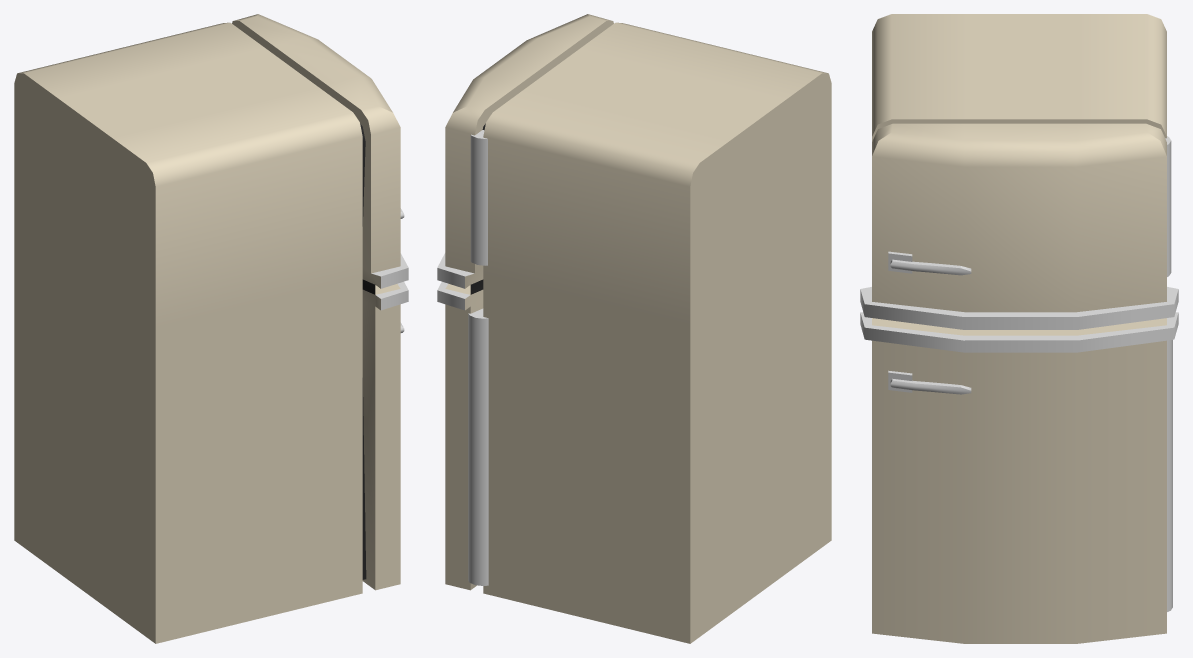
Rendered from fridgeUV.fbx.
The picture shows the model from 3 angles, left to right: view 1: azimuth 30°, elevation 25°; view 2: azimuth 150°, elevation 25°; view 3: azimuth 270°, elevation 25°; orthographic projection. The views are drawn at different scales.
Parts seen in each view (by area): view 1: polySurface4; view 2: polySurface4; view 3: polySurface4.
Boxes of the visible parts, <box> form: polySurface4: <box>14,14,408,643</box>; polySurface4: <box>437,14,831,643</box>; polySurface4: <box>860,14,1178,643</box>.
Bounding box in the file's own units: 3.02 × 4.97 × 2.9.
